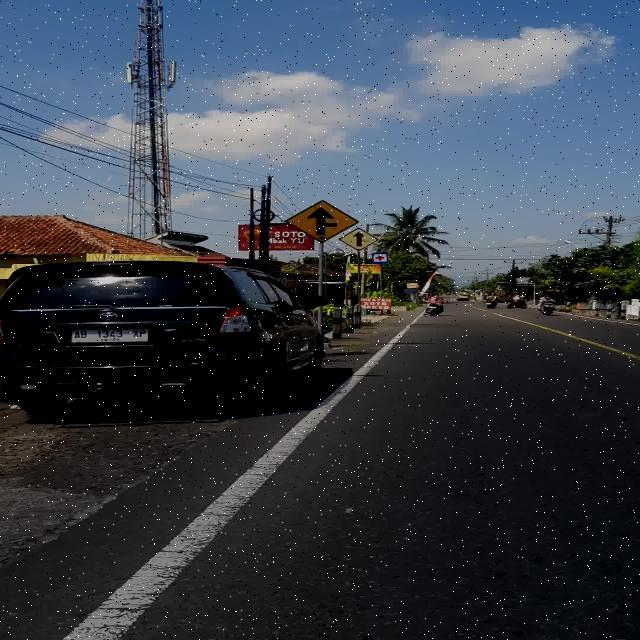Persimpangan 3 Prioritas Kanan: (286, 200, 358, 242)
